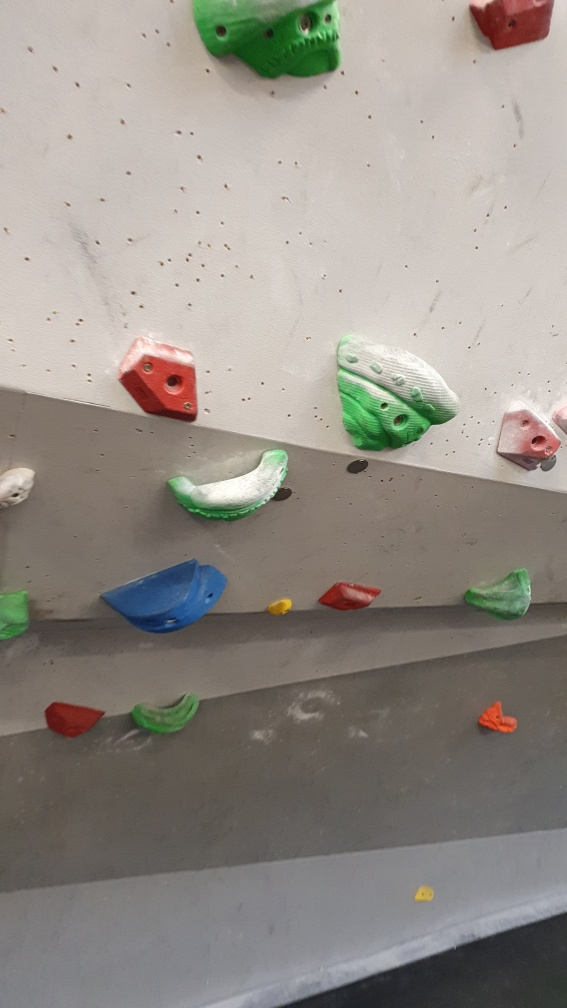Crimp: (117, 330, 206, 424), (495, 405, 565, 478), (314, 571, 385, 618)
Hand Start: (343, 450, 371, 480), (269, 480, 300, 507), (538, 450, 560, 475)
Jug: (326, 327, 467, 457), (161, 441, 293, 520), (128, 687, 211, 739), (461, 567, 536, 623)
Pinch: (96, 554, 235, 635)
